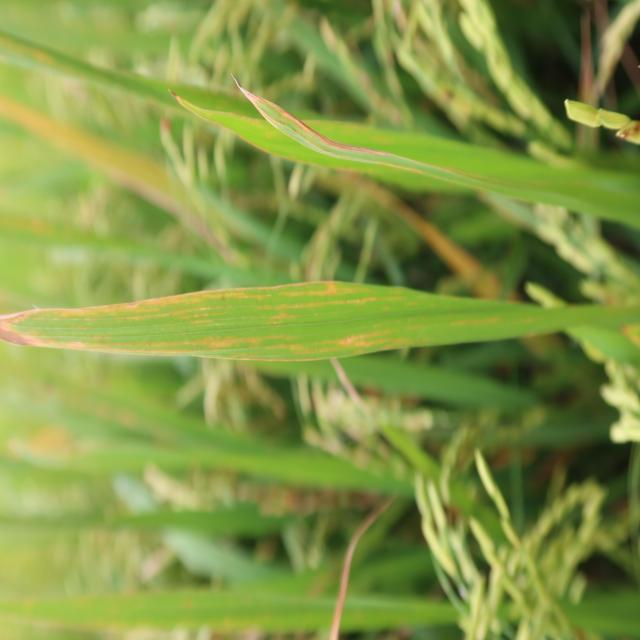Dom soc vi khuan: (0, 309, 205, 357), (45, 290, 249, 323), (273, 295, 376, 310), (276, 283, 355, 299), (209, 331, 279, 348), (338, 332, 391, 354), (289, 343, 311, 356)
